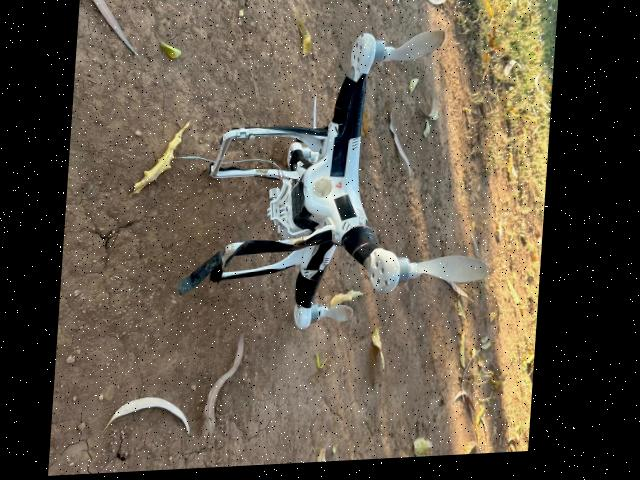drone: (151, 0, 492, 350)
